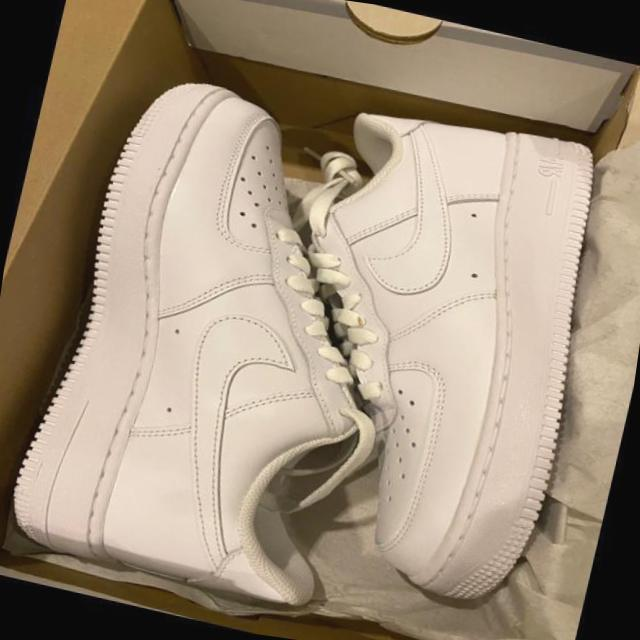nike_original_airforce: (0, 54, 425, 615), (226, 81, 631, 626)
